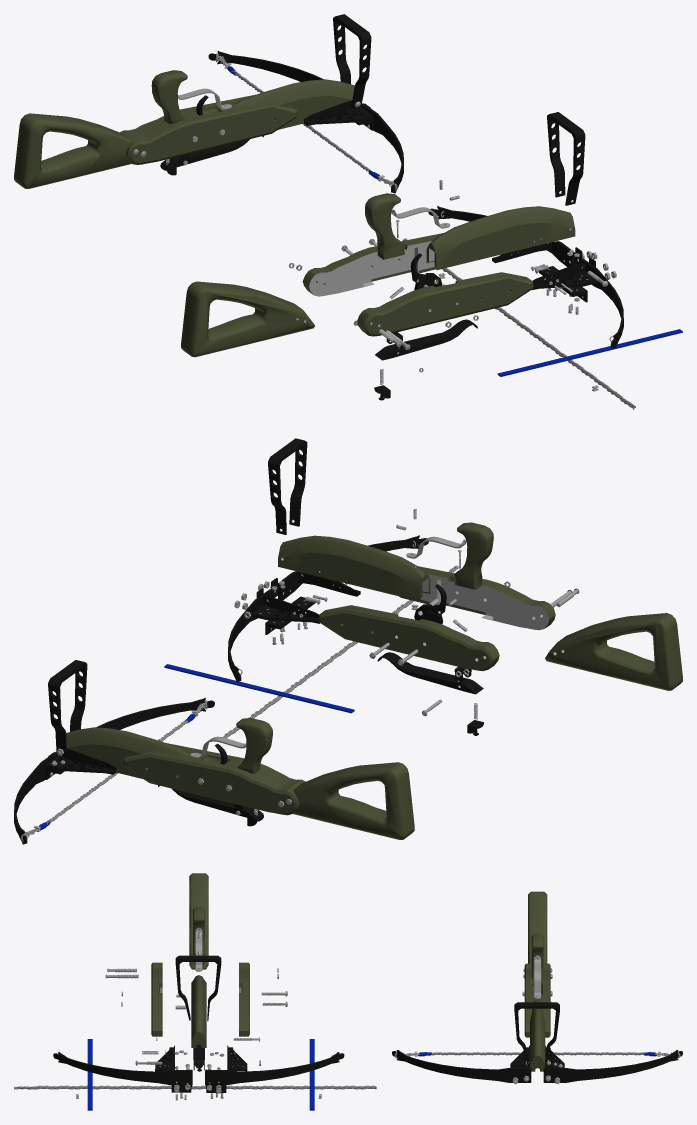
File: Arbalet.fbx
The picture shows the model from 3 angles, top to bottom: view 1: azimuth 30°, elevation 25°; view 2: azimuth 150°, elevation 25°; view 3: azimuth 270°, elevation 25°; orthographic projection. The views are drawn at different scales.
Parts seen in each view (by area): view 1: Base, polySurface279, polySurface261, polySurface251, Leg_holder3, Wings, Leg_holder, Hand_holder3, Wings2, Hand_holder, polySurface193, polySurface151 (+5 smaller); view 2: Base, polySurface279, polySurface261, polySurface251, Leg_holder3, Wings, Leg_holder, Hand_holder3, Wings2, Hand_holder, polySurface193, polySurface135 (+6 smaller); view 3: Base, Wings2, Wings, polySurface279, polySurface173, polySurface261, polySurface251, Leg_holder3, Leg_holder, Bowstring, Hand_holder, Small_wings (+3 smaller).
Part boxes in pixels (<box>): Base: <box>14,79,354,188</box>; polySurface279: <box>302,233,533,336</box>; polySurface261: <box>181,281,314,357</box>; polySurface251: <box>426,206,575,270</box>; Leg_holder3: <box>547,112,585,205</box>; Wings: <box>208,51,403,193</box>; Leg_holder: <box>333,14,371,107</box>; Hand_holder3: <box>365,193,404,259</box>; Wings2: <box>428,206,623,348</box>; Hand_holder: <box>151,70,187,123</box>; polySurface193: <box>375,319,477,360</box>; polySurface151: <box>532,262,597,289</box>; Base: <box>66,727,414,839</box>; polySurface279: <box>319,566,555,671</box>; polySurface261: <box>545,613,682,690</box>; polySurface251: <box>278,535,430,601</box>; Leg_holder3: <box>268,438,307,534</box>; Wings: <box>14,697,214,844</box>; Leg_holder: <box>48,660,87,756</box>; Hand_holder3: <box>454,522,493,589</box>; Wings2: <box>228,535,428,681</box>; Hand_holder: <box>236,718,272,773</box>; polySurface193: <box>377,652,483,694</box>; polySurface135: <box>251,595,319,623</box>; Base: <box>524,891,550,1071</box>; Wings2: <box>53,1052,344,1085</box>; Wings: <box>392,1050,682,1082</box>; polySurface279: <box>151,962,249,1036</box>; polySurface173: <box>14,1085,376,1089</box>; polySurface261: <box>189,873,208,969</box>; polySurface251: <box>191,975,206,1047</box>; Leg_holder3: <box>175,955,221,1021</box>; Leg_holder: <box>514,1002,559,1067</box>; Bowstring: <box>394,1052,680,1058</box>; Hand_holder: <box>531,934,543,979</box>; Small_wings: <box>510,1045,564,1067</box>.
Size of the model in its own units: 10.34 by 5.4 by 17.72.
